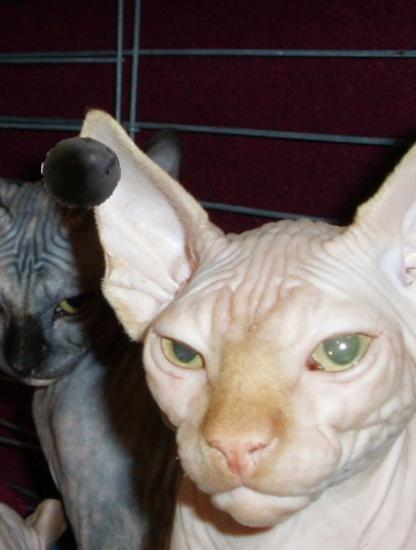Plum: (41, 133, 122, 214)
